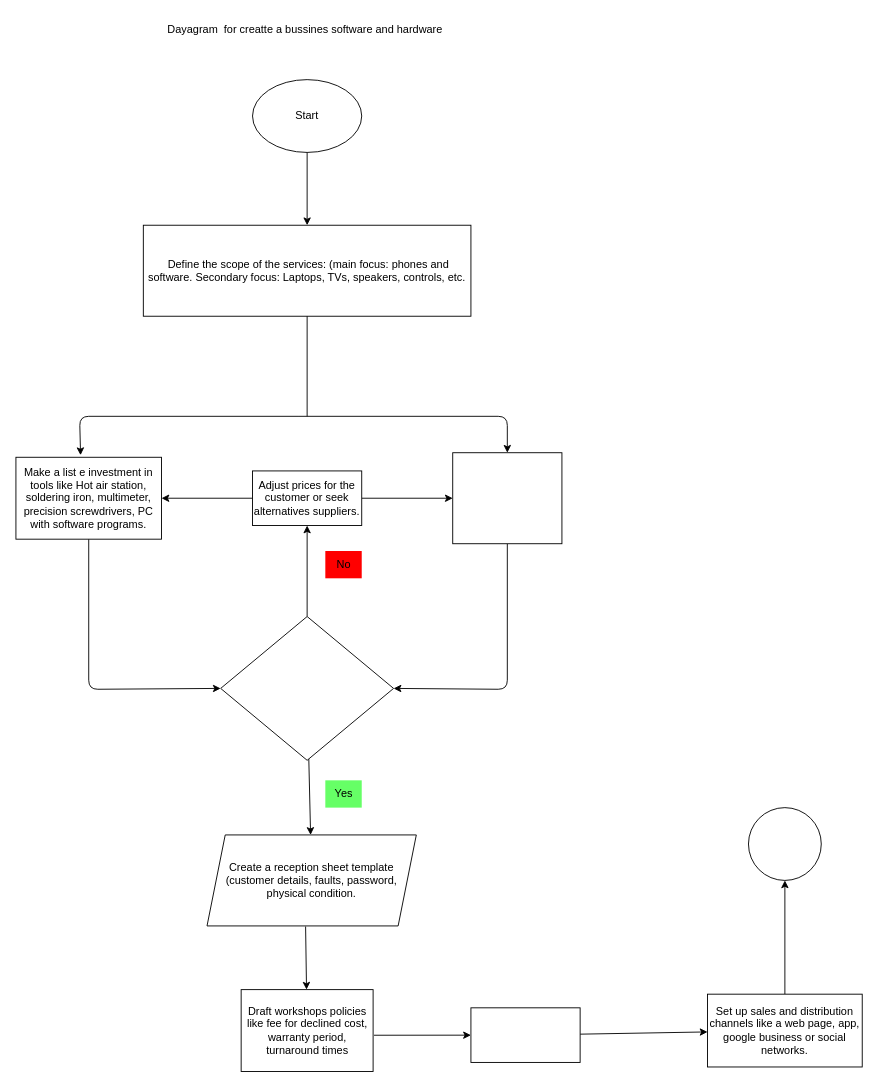
The diagram is 878 pixels wide and 1087 high, and some of its shapes have lost their labels. The centre of each missing label's shape, as x and y in pixels:
"Do supplier prices allow for a profitable margin?" belongs at (x=307, y=688).
"End" belongs at (x=784, y=843).
"Prepare the workspace and equipment receiving area." belongs at (x=525, y=1034).
"Search and coute suppliers of spare parts for phones and electronic components." belongs at (x=507, y=498).
